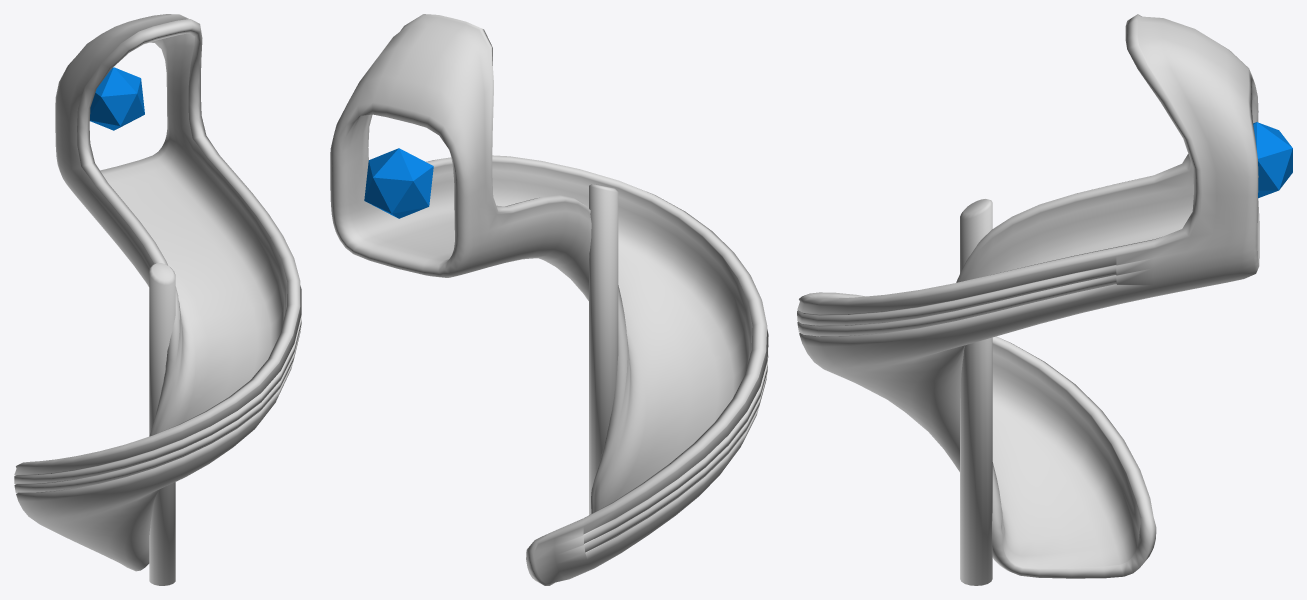
The model's file is Spiral slide 5'.glb.
3 renders of one model, left to right at view 1: azimuth 30°, elevation 25°; view 2: azimuth 150°, elevation 25°; view 3: azimuth 270°, elevation 25°, orthographic. The views are drawn at different scales.
Visible parts, largest first — view 1: Cylinder.014, Joint.054; view 2: Cylinder.014, Joint.054; view 3: Cylinder.014, Joint.054.
Part boxes in pixels (box(x1,y1,x2,y2)): Cylinder.014: box(14, 14, 301, 585); Joint.054: box(90, 67, 144, 130); Cylinder.014: box(330, 14, 768, 585); Joint.054: box(364, 148, 433, 218); Cylinder.014: box(797, 14, 1259, 585); Joint.054: box(1253, 122, 1292, 198).
Bounding box in the file's own units: 1.31 × 2.37 × 1.78.
